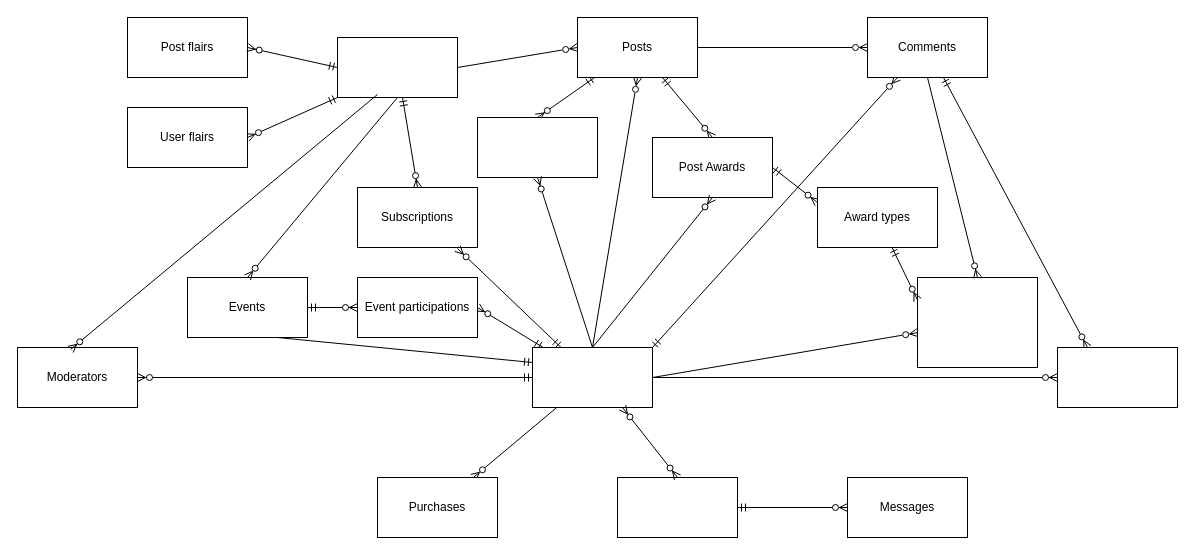
The diagram is 1195 pixels wide and 555 high, and some of its shapes have lost their labels. The shapes that lost their labels are listed below. From the top down, each one's centre as x and y in pixels, then its label:
pixel 397 67: SubGoddits
pixel 537 147: Post votes
pixel 977 322: Comment Awards
pixel 592 377: Users
pixel 1117 377: Comment votes
pixel 677 507: Message chain
